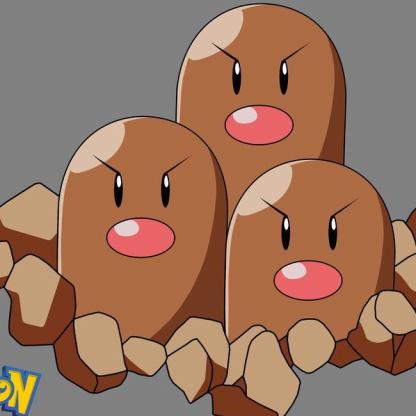Dugtrio: (9, 3, 416, 407)
